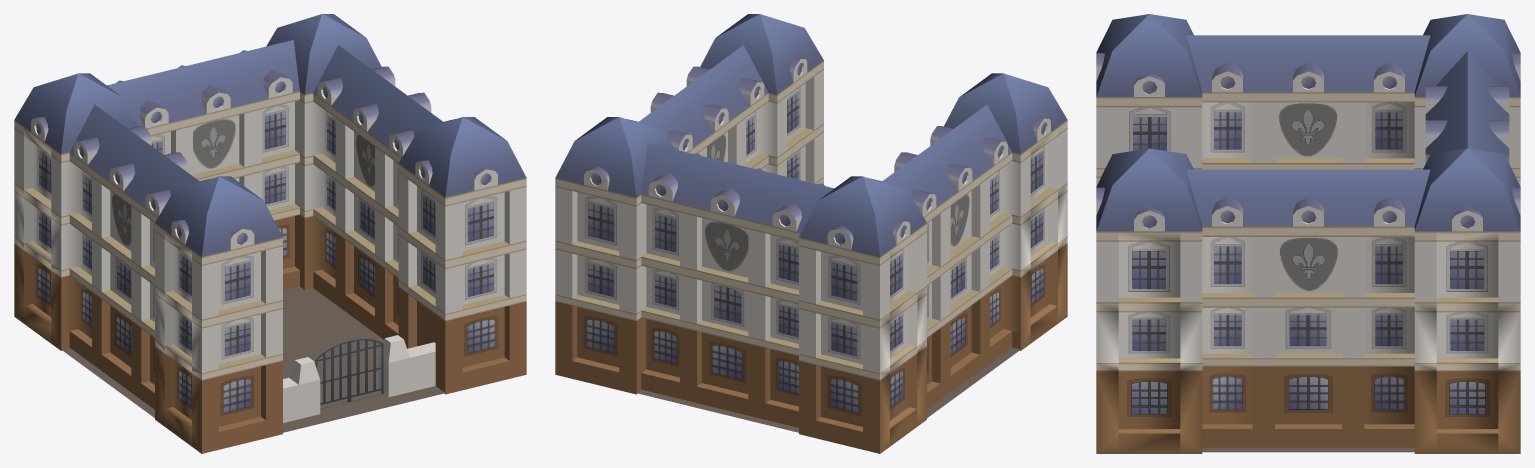
Rendered from Bat_Caserne.fbx.
3 views of the same model, side by side, from view 1: azimuth 30°, elevation 25°; view 2: azimuth 150°, elevation 25°; view 3: azimuth 270°, elevation 25° (orthographic). The views are drawn at different scales.
Parts seen in each view (by area): view 1: Box022; view 2: Box022; view 3: Box022.
Part boxes in pixels (x1,y1,x2,y2): Box022: (14, 14, 526, 453); Box022: (555, 14, 1067, 453); Box022: (1096, 14, 1520, 453).
Size of the model in its own units: 38 by 28 by 38.
